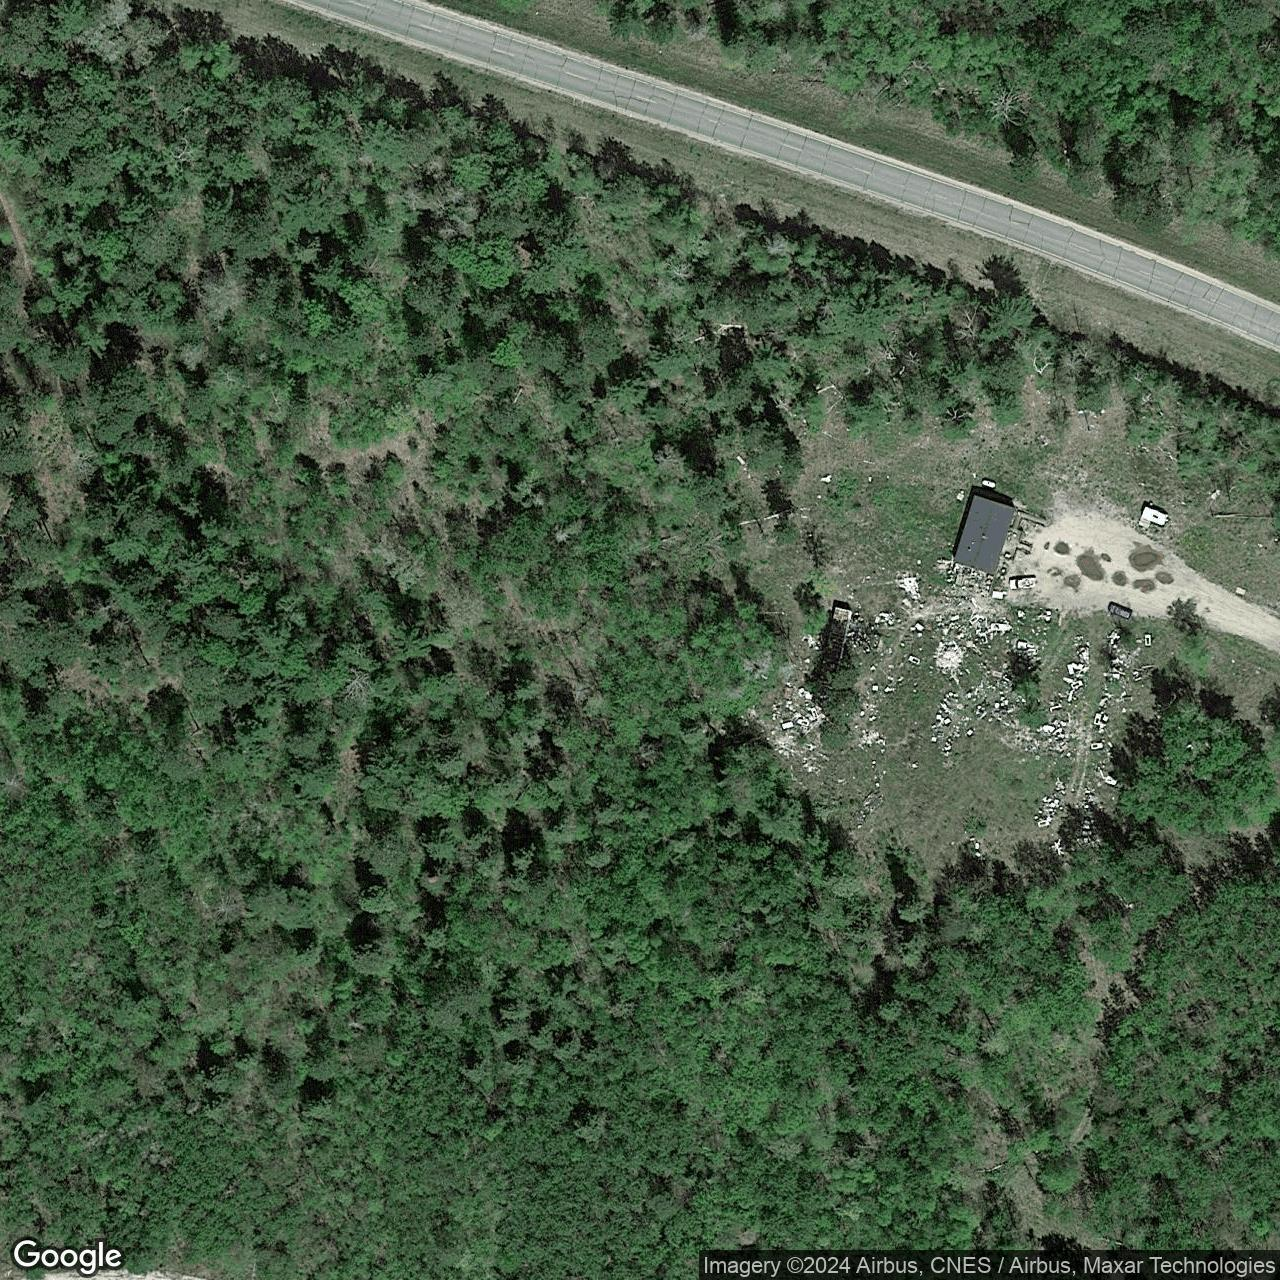House: (951, 493, 1017, 577)
Propane: (979, 476, 998, 491)
